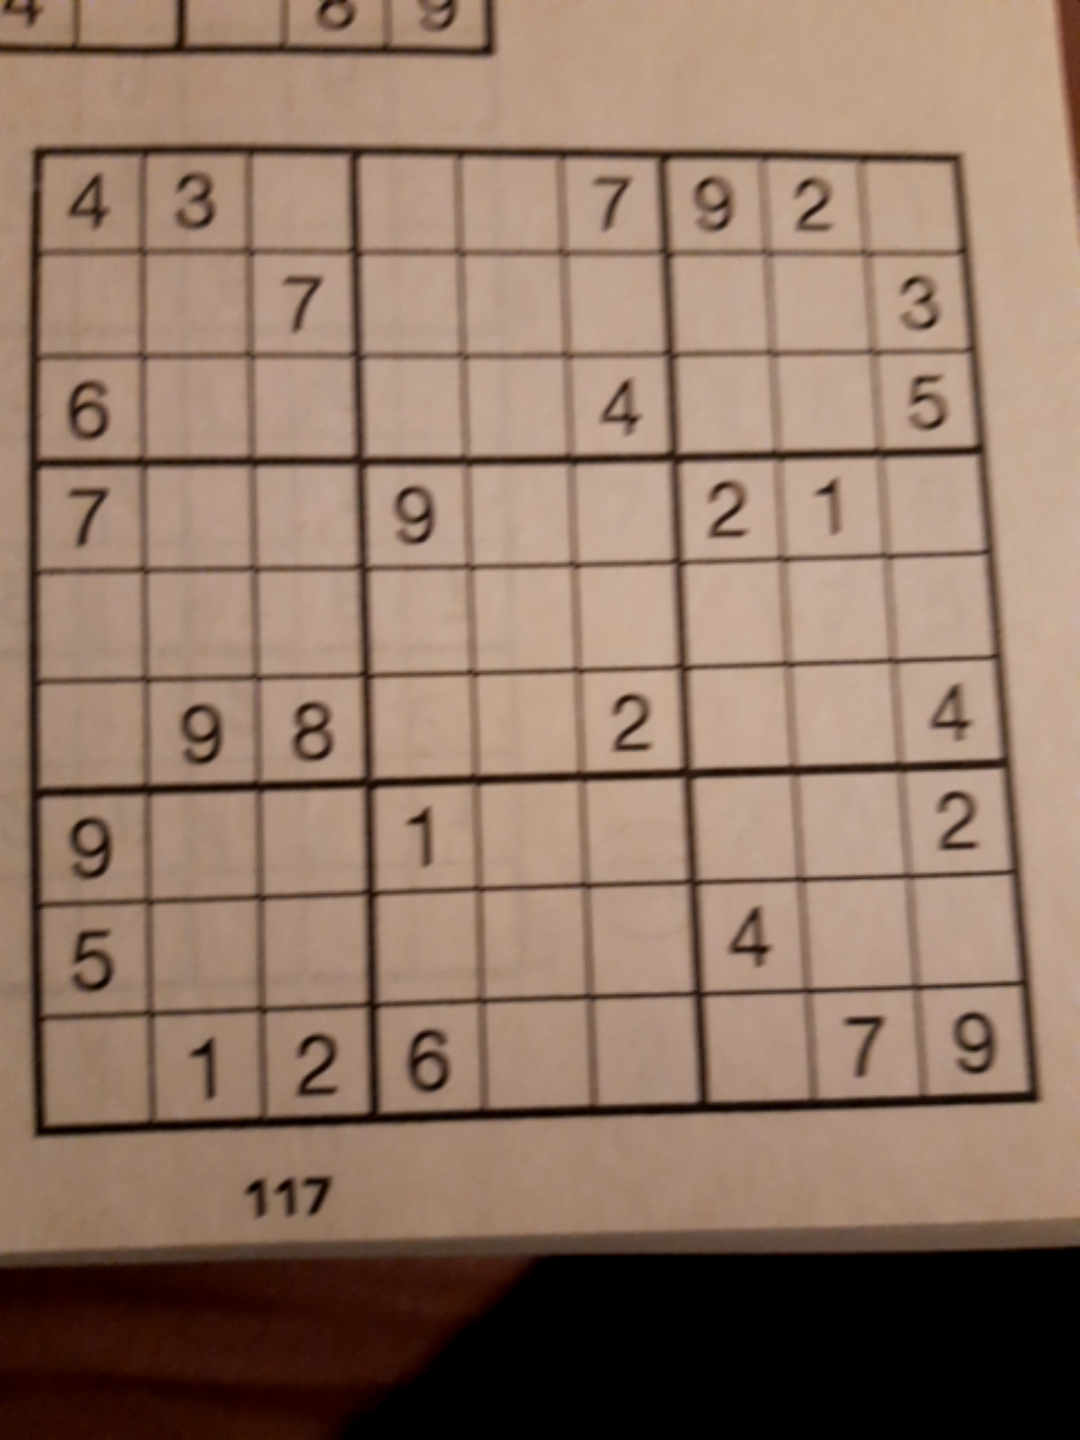sudoku: (28, 141, 1040, 1137)
